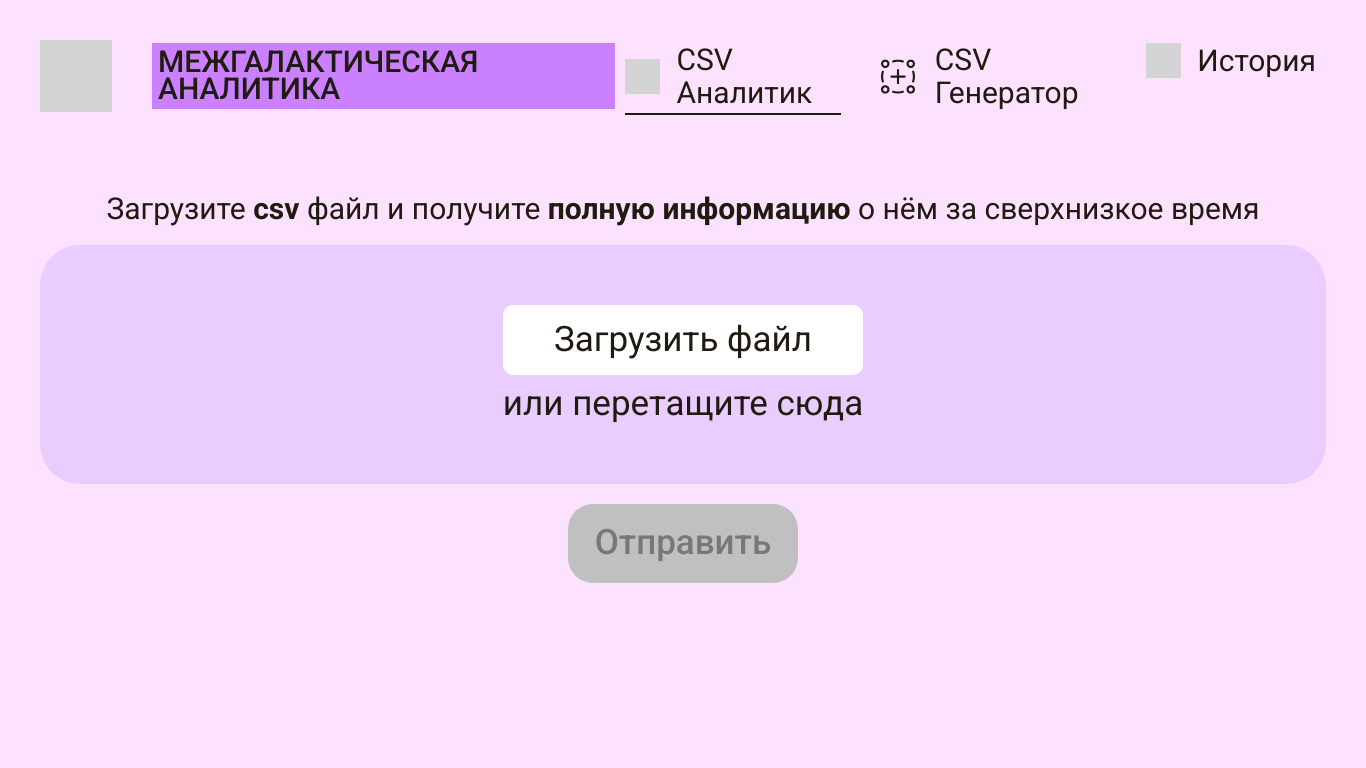
Тестирование навигации › при нажатии на История открывается странциа истории
Click the link with test id "history-link" at (1231, 60), box [1146,43,1316,78]
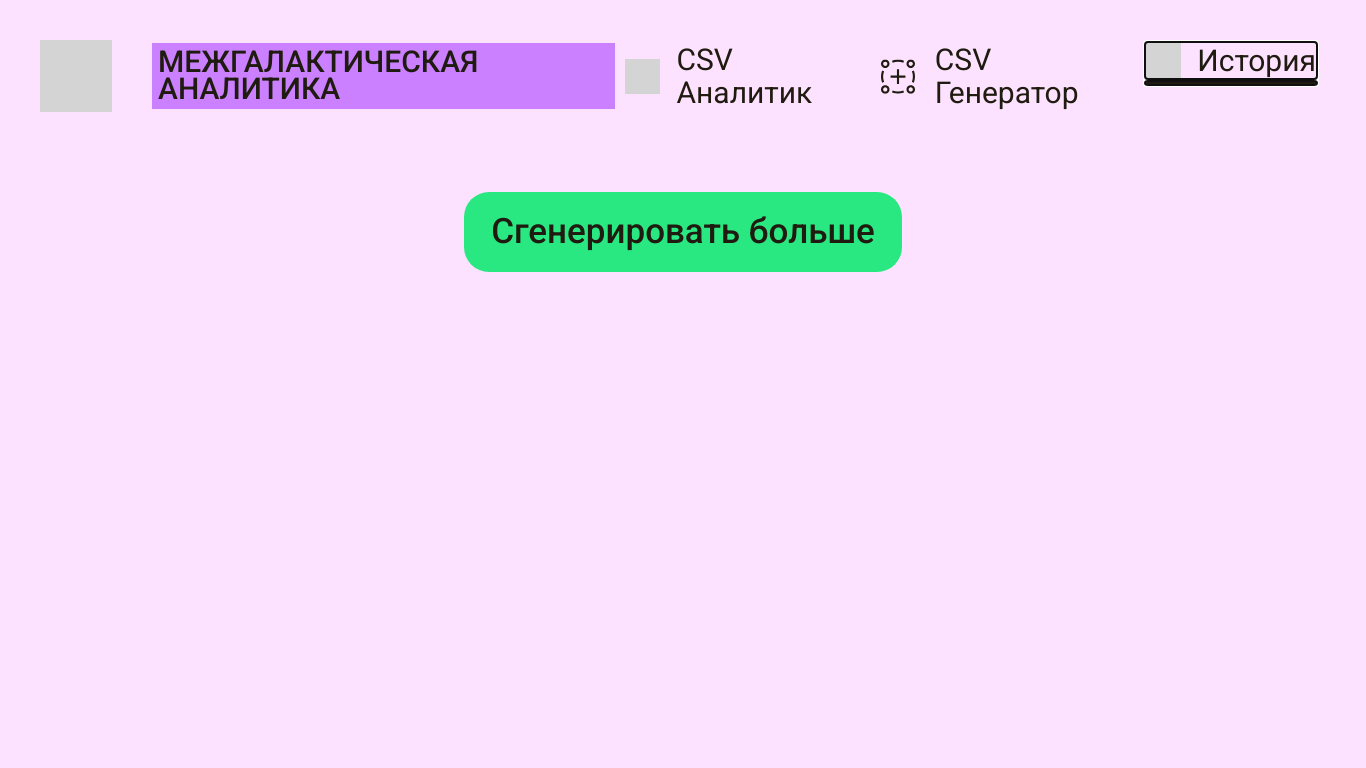
Expected: the element with test id "history-page" is shown, [464,192,902,272]
